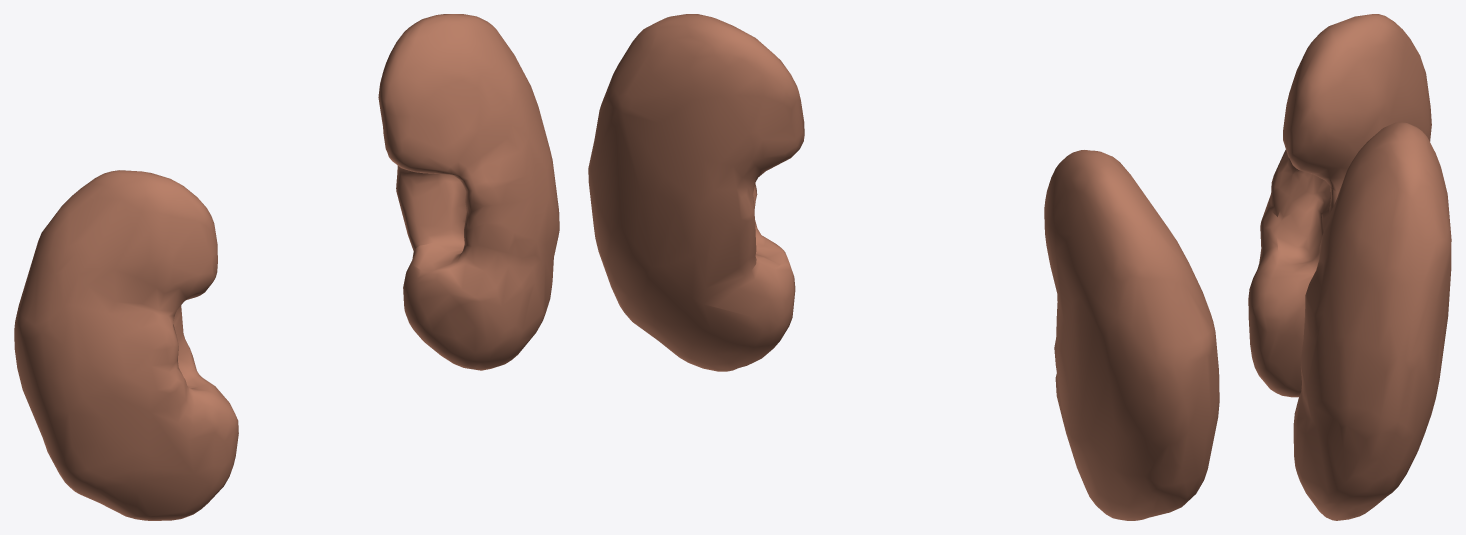
File: kidney.glb
The picture shows the model from 3 angles, left to right: view 1: azimuth 30°, elevation 25°; view 2: azimuth 150°, elevation 25°; view 3: azimuth 270°, elevation 25°; orthographic projection. The views are drawn at different scales.
Visible parts, largest first — view 1: Kidneys; view 2: Kidneys; view 3: Kidneys.
Boxes of the visible parts, left/top/right/bottom form: Kidneys: left=14, top=14, right=559, bottom=520; Kidneys: left=588, top=14, right=1219, bottom=520; Kidneys: left=1248, top=14, right=1451, bottom=520.
Size of the model in its own units: 0.178 by 0.1236 by 0.0521.
